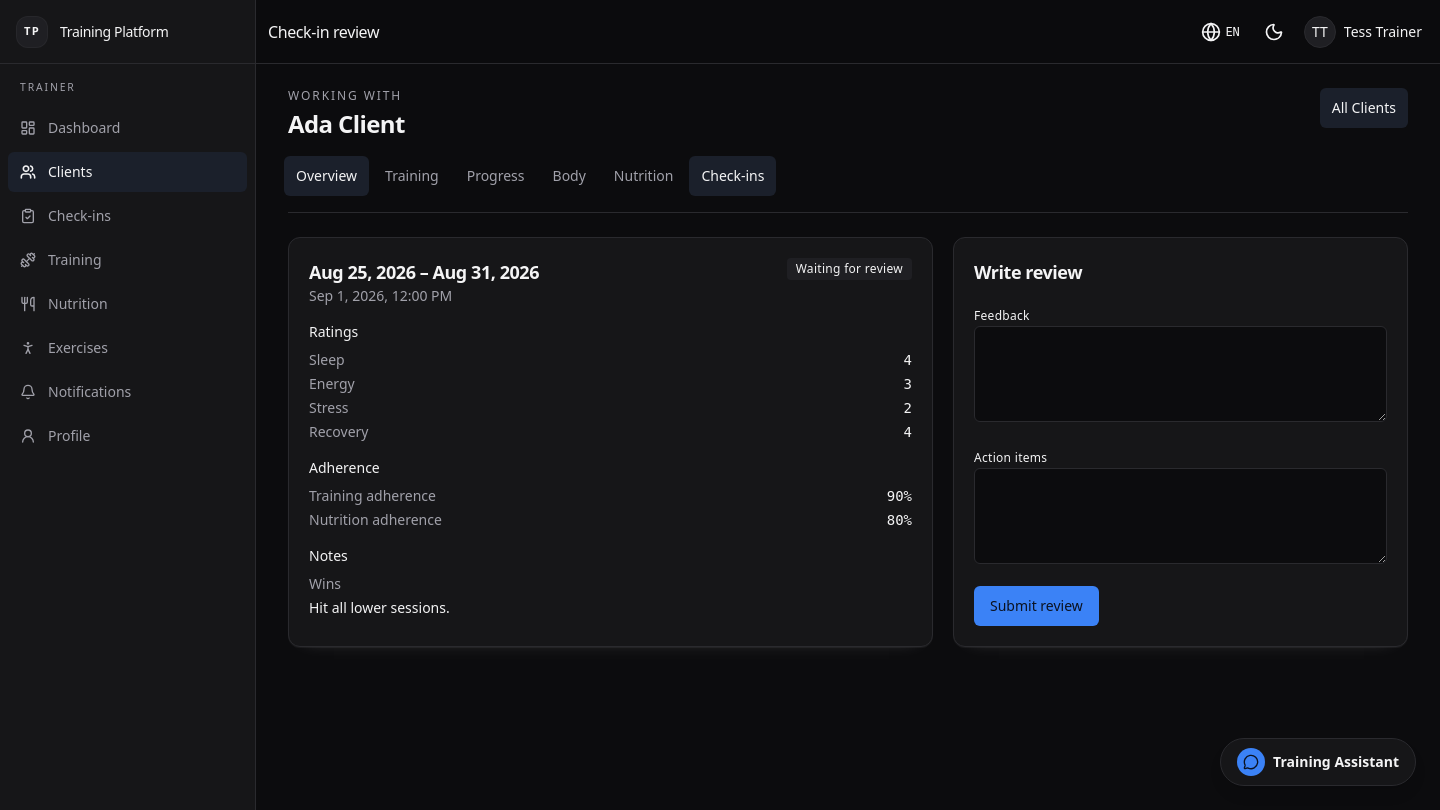
Test case: Trainer workspace › reviews a submitted check-in and does not expose drafts
Step 1. Type "Keep the current volume." into the text box labelled "Feedback" → [1180, 374], box [974,326,1387,422]
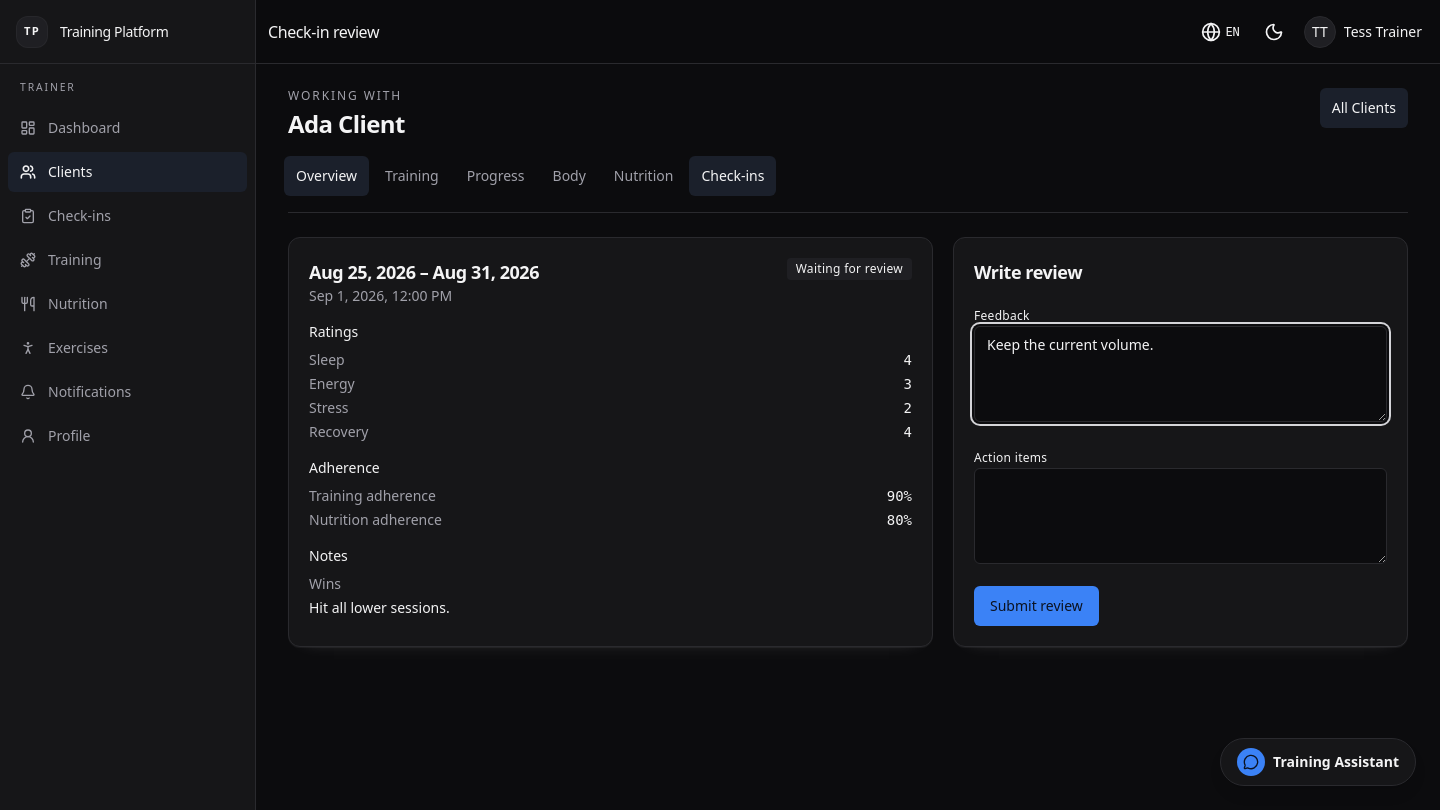
Step 2. Click the button "Submit review" → [1036, 606], box [974,586,1099,626]
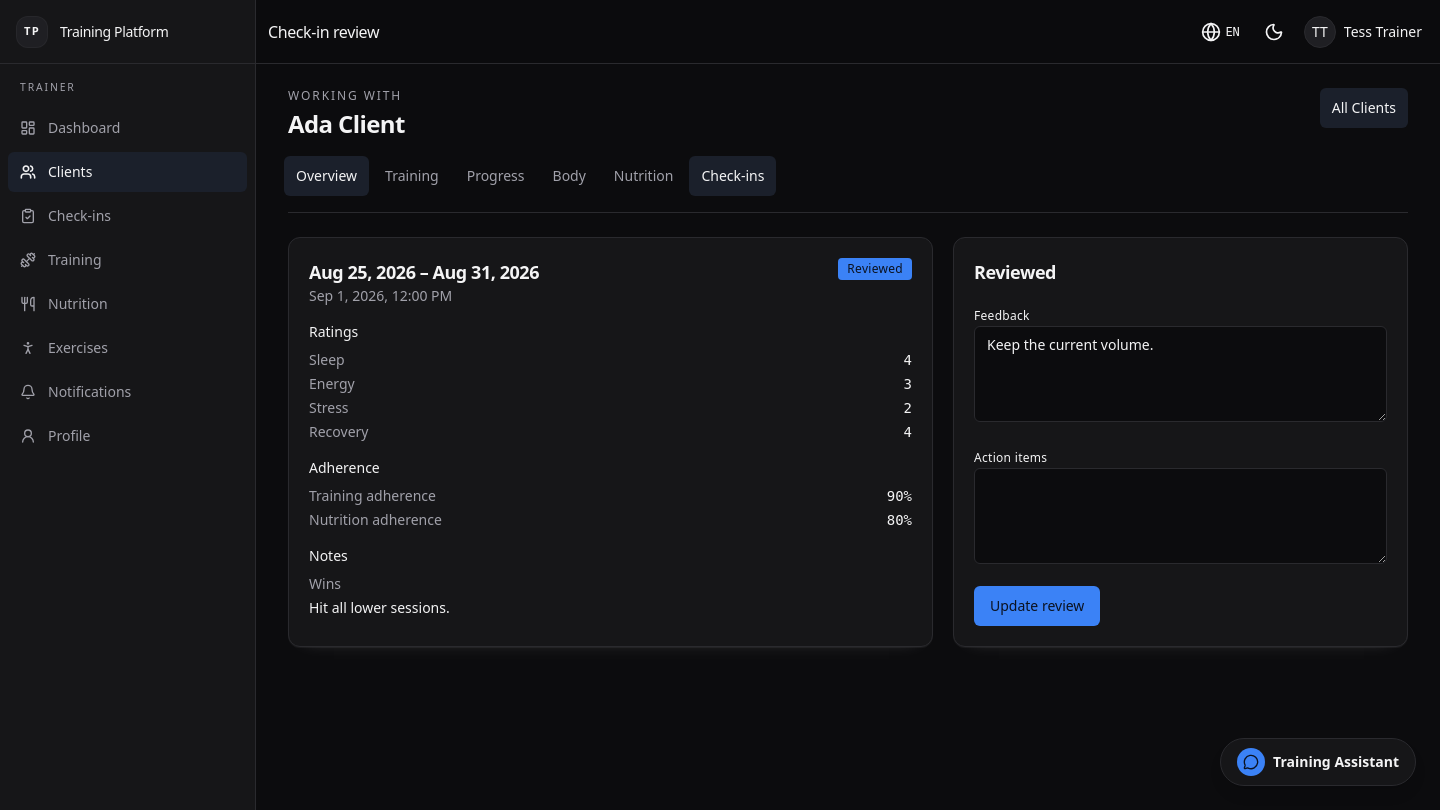
Check: the heading "Reviewed" is shown, box [974,260,1056,284]
